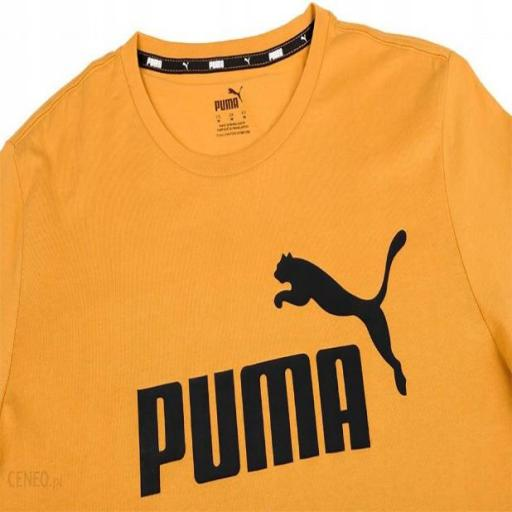Puma: (268, 227, 425, 398)
